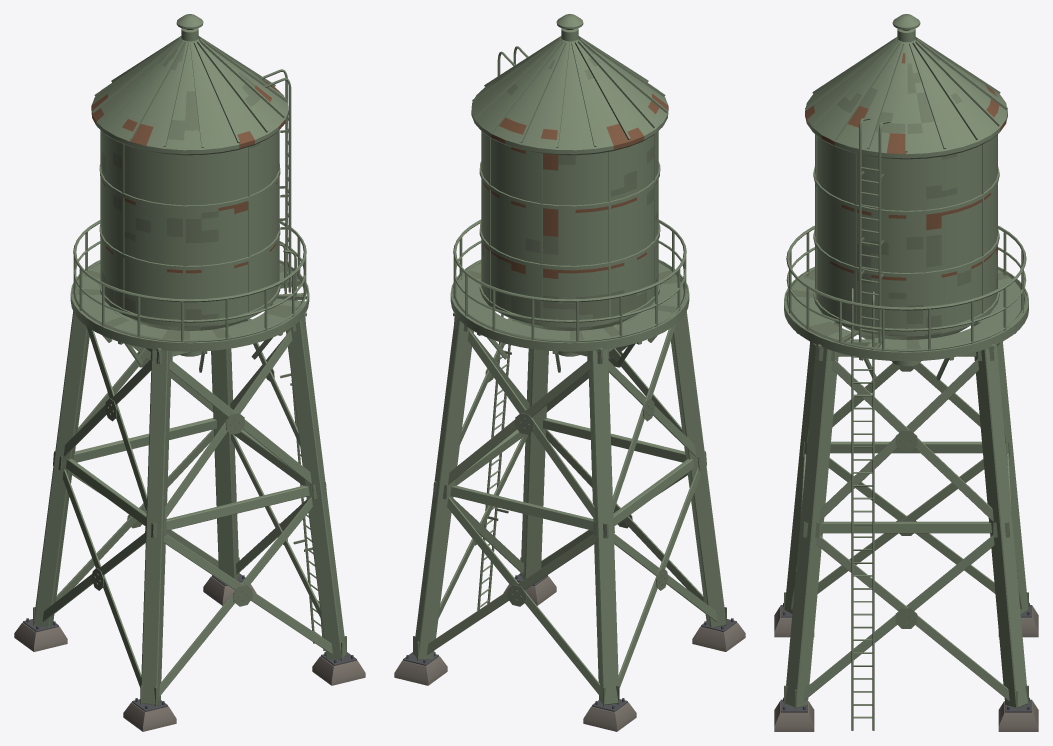
File: WaterTower.fbx
3 views of the same model, side by side, from view 1: azimuth 30°, elevation 25°; view 2: azimuth 150°, elevation 25°; view 3: azimuth 270°, elevation 25° (orthographic). The views are drawn at different scales.
Parts seen in each view (by area): view 1: WaterTower_Mesh; view 2: WaterTower_Mesh; view 3: WaterTower_Mesh.
Part boxes in pixels (box(x1,y1,x2,y2)): WaterTower_Mesh: box(14, 14, 365, 731); WaterTower_Mesh: box(394, 14, 745, 731); WaterTower_Mesh: box(774, 14, 1038, 731).
Bounding box in the file's own units: 5.78 × 15.93 × 5.78.
